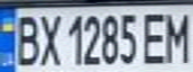1: (63, 10, 84, 66)
2: (81, 10, 103, 66)
5: (118, 9, 142, 65)
8: (100, 10, 121, 65)
B: (9, 10, 42, 66)
E: (139, 9, 172, 65)
M: (163, 8, 193, 64)
X: (36, 10, 63, 67)
